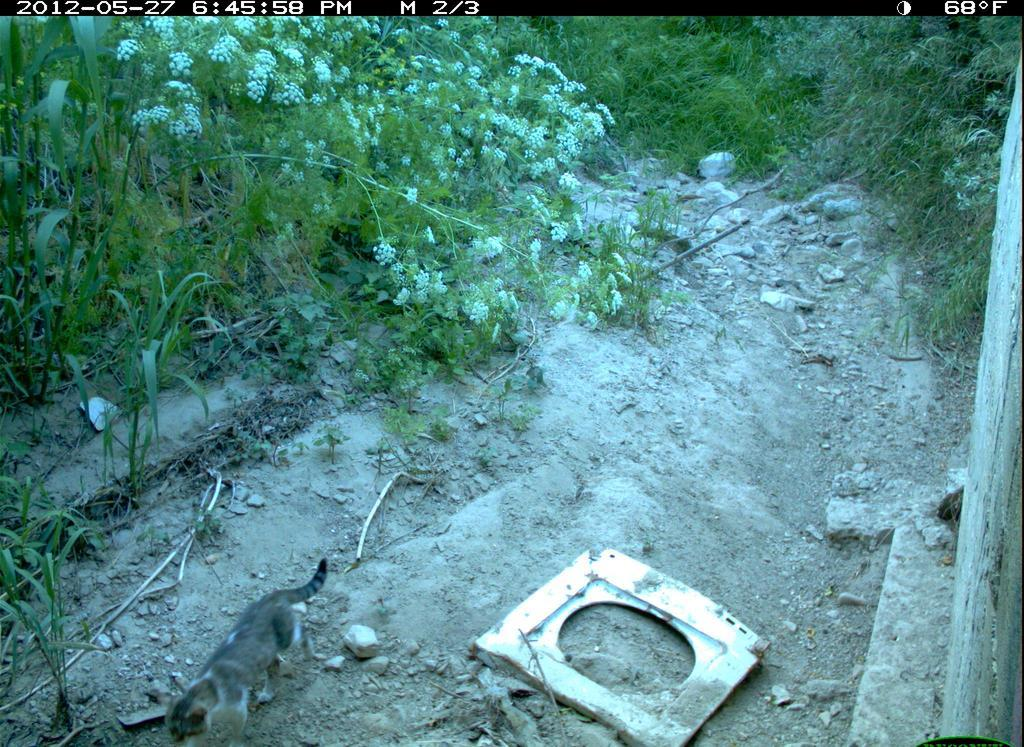cat: (164, 555, 332, 747)
